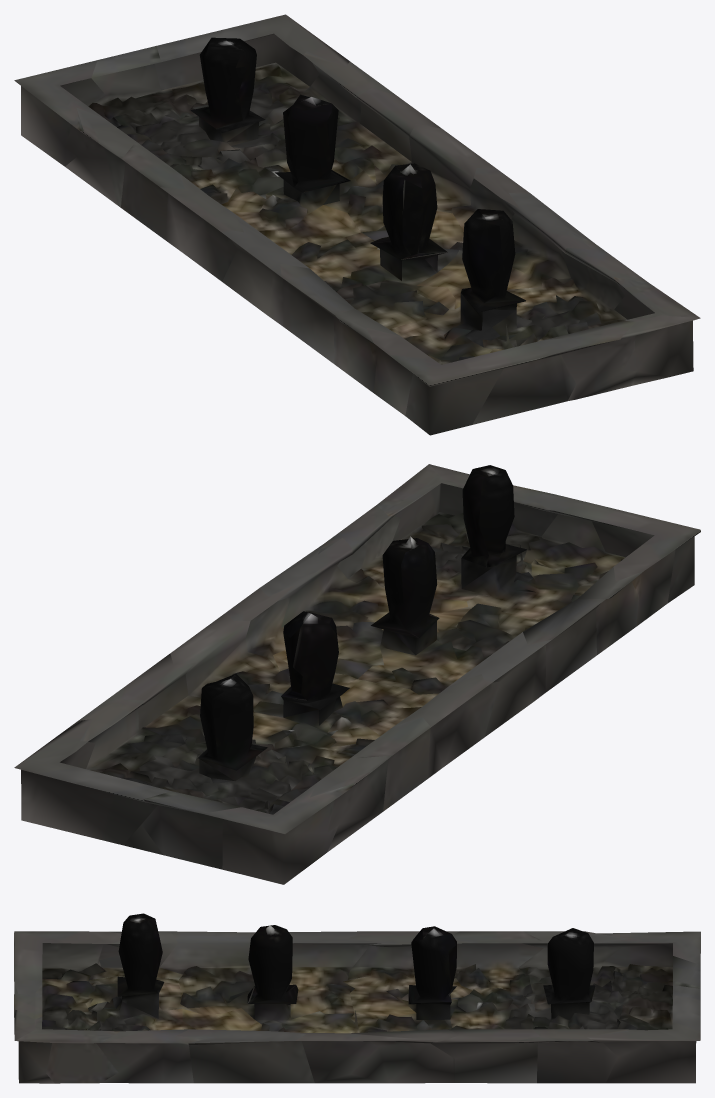
Rendered from taman_depan_bicc_lod2.glb.
The picture shows the model from 3 angles, top to bottom: view 1: azimuth 30°, elevation 25°; view 2: azimuth 150°, elevation 25°; view 3: azimuth 270°, elevation 25°; orthographic projection. The views are drawn at different scales.
Visible parts, largest first — view 1: tripo_node_b3ad3ebc-332a-41ed-8424-ee3ecafd6713; view 2: tripo_node_b3ad3ebc-332a-41ed-8424-ee3ecafd6713; view 3: tripo_node_b3ad3ebc-332a-41ed-8424-ee3ecafd6713.
Part boxes in pixels (<box>): tripo_node_b3ad3ebc-332a-41ed-8424-ee3ecafd6713: <box>14,14,700,435</box>; tripo_node_b3ad3ebc-332a-41ed-8424-ee3ecafd6713: <box>14,464,700,884</box>; tripo_node_b3ad3ebc-332a-41ed-8424-ee3ecafd6713: <box>14,913,700,1083</box>.
Bounding box in the file's own units: 0.3769 × 0.1783 × 0.9992.
1 material, 1 textured.
